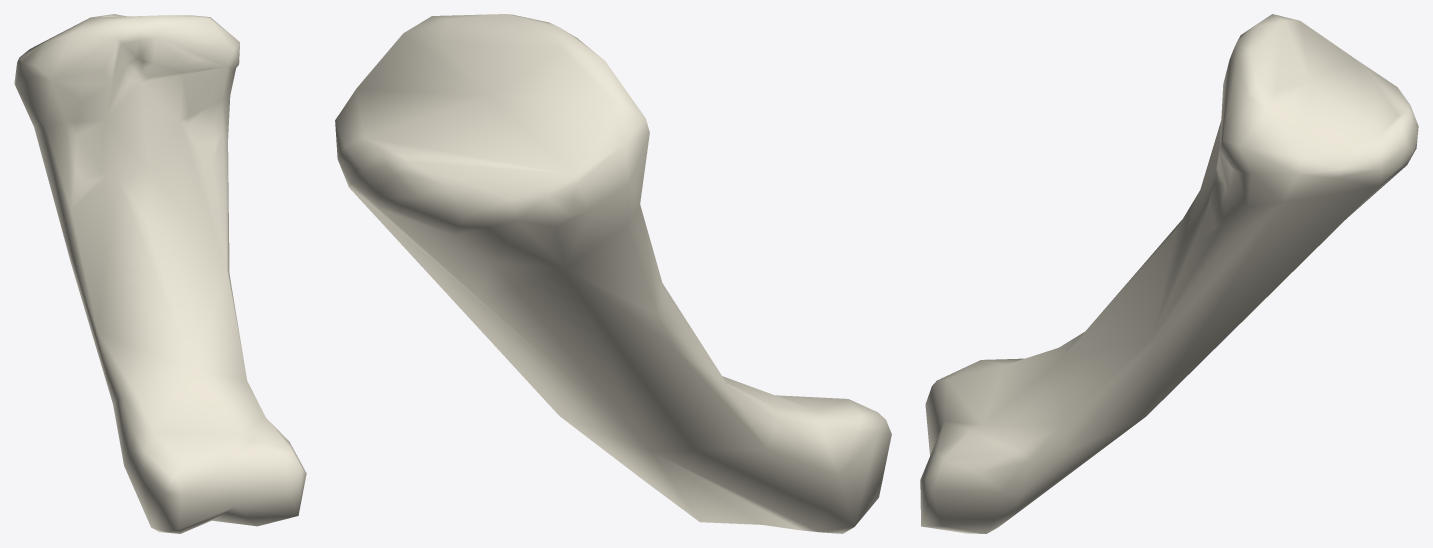
The picture shows the model from 3 angles, left to right: view 1: azimuth 30°, elevation 25°; view 2: azimuth 150°, elevation 25°; view 3: azimuth 270°, elevation 25°; orthographic projection. The views are drawn at different scales.
Visible parts, largest first — view 1: ZA_e4e03b2db07bd193; view 2: ZA_e4e03b2db07bd193; view 3: ZA_e4e03b2db07bd193.
Boxes of the visible parts, box(x1,y1,x2,y2) form: ZA_e4e03b2db07bd193: box(14, 14, 306, 533); ZA_e4e03b2db07bd193: box(335, 14, 891, 533); ZA_e4e03b2db07bd193: box(920, 14, 1418, 533).
Size of the model in its own units: 0.0142 by 0.0263 by 0.0238.
